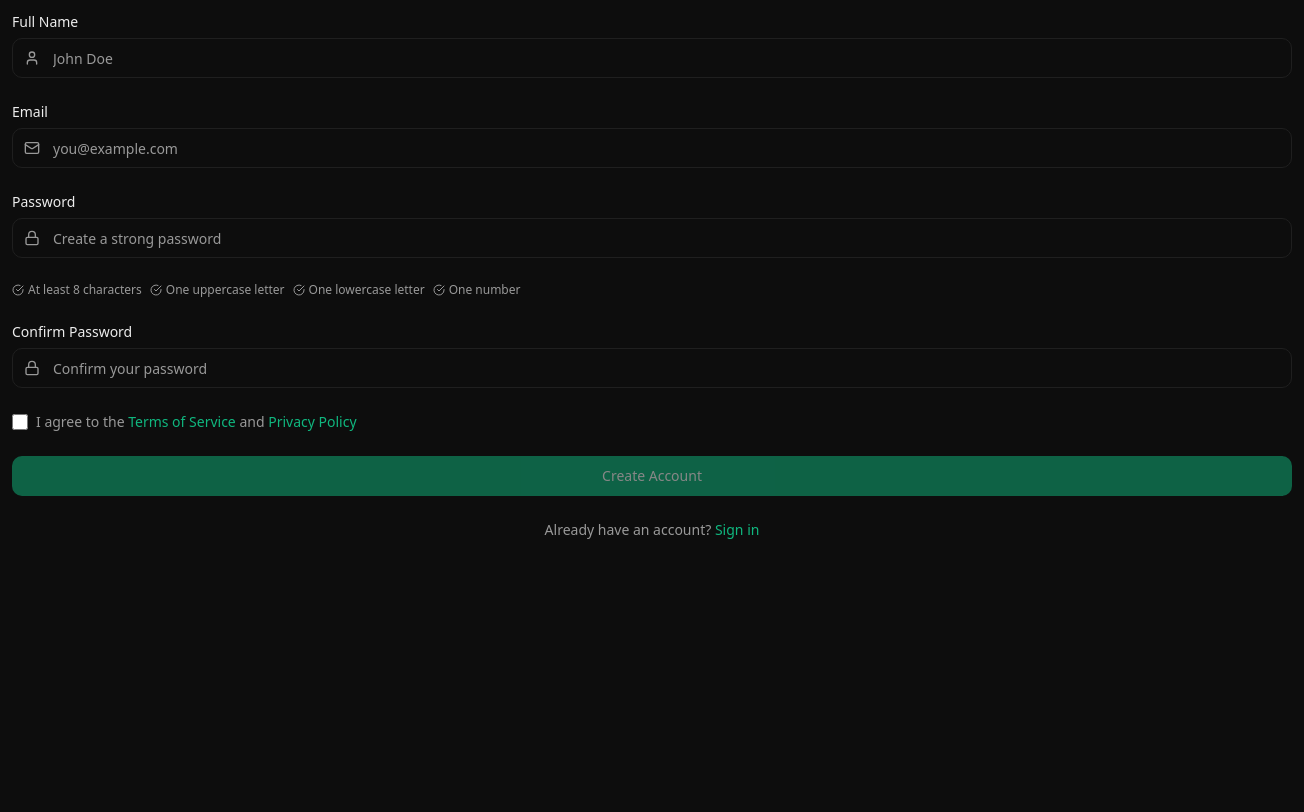
SignupForm › error handling › displays generic error for non-Error throws
In the field labelled "Full Name": x=652, y=58 [12,38,1292,78], type "John"
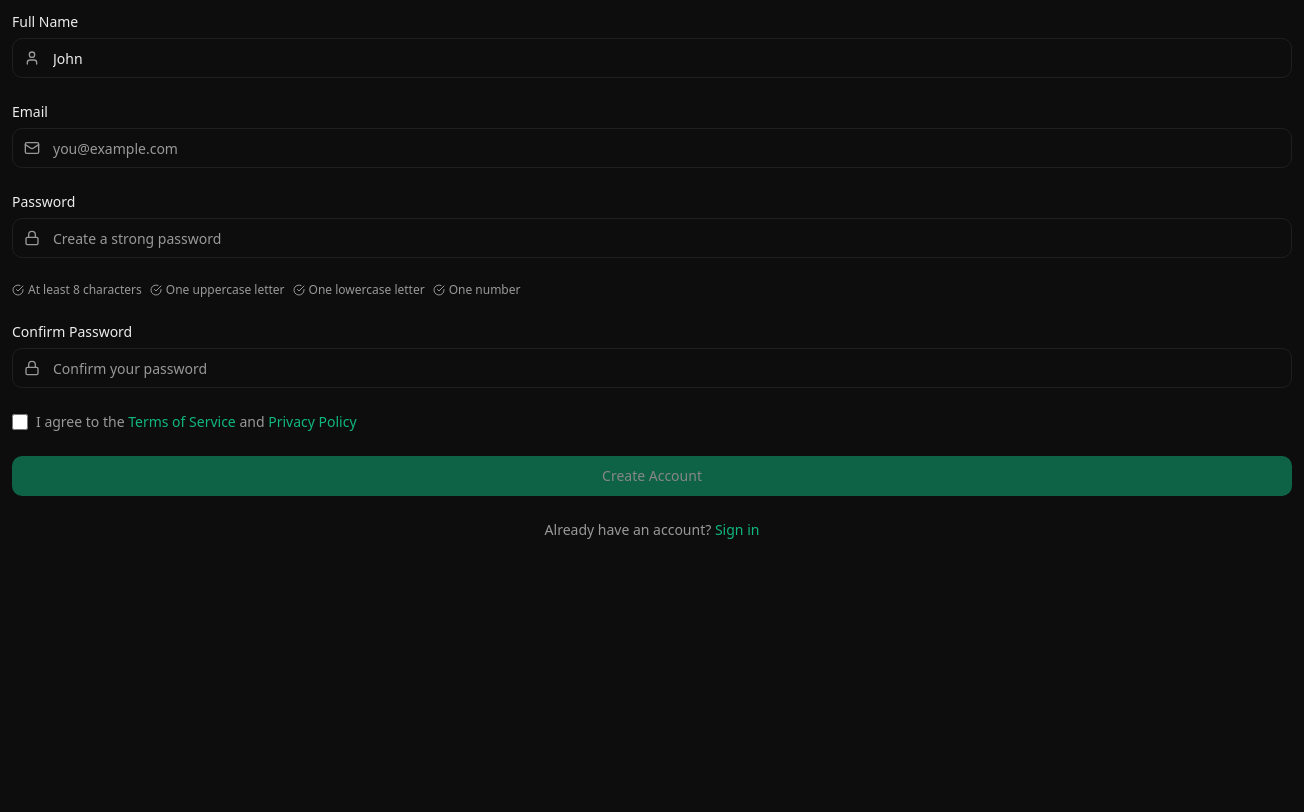
In the field labelled "Email": x=652, y=148 [12,128,1292,168], type "john@example.com"
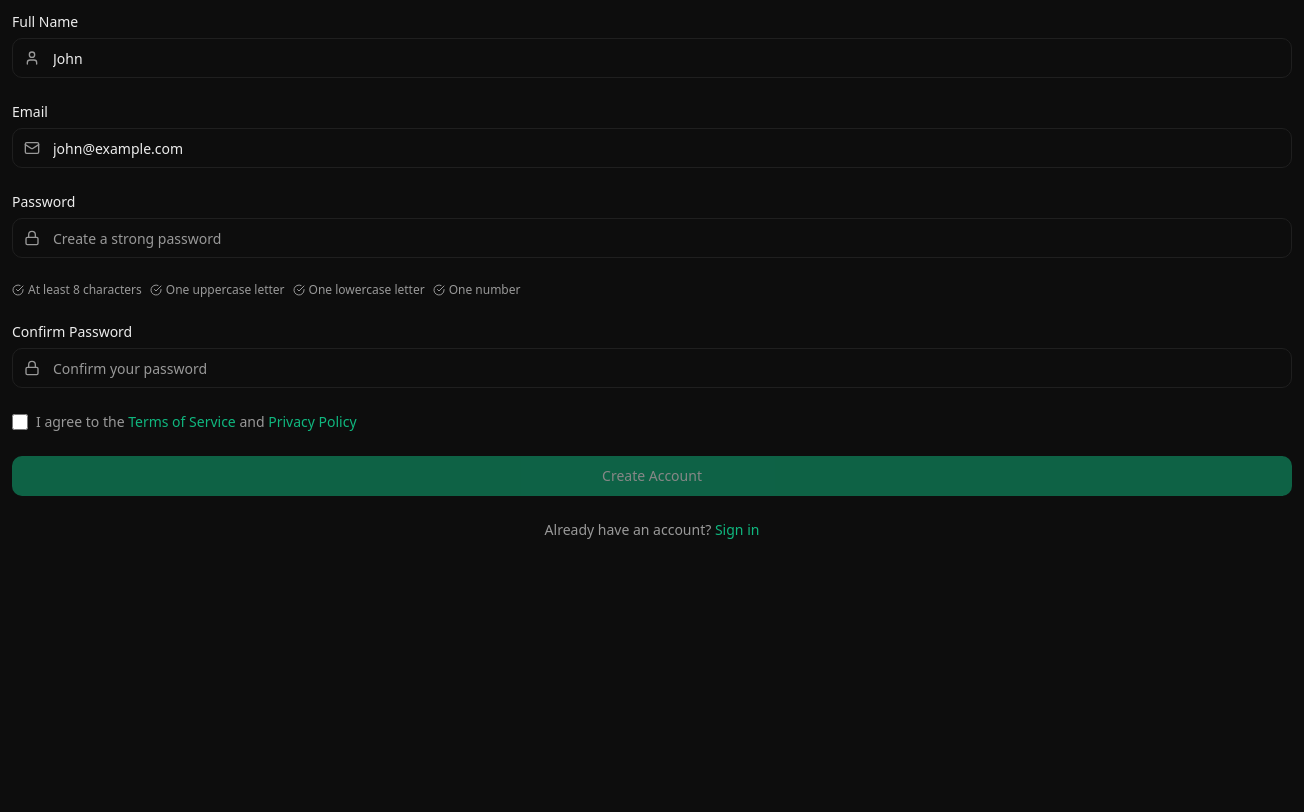
In the password field labelled "Password": x=652, y=238 [12,218,1292,258], type "Password1A"
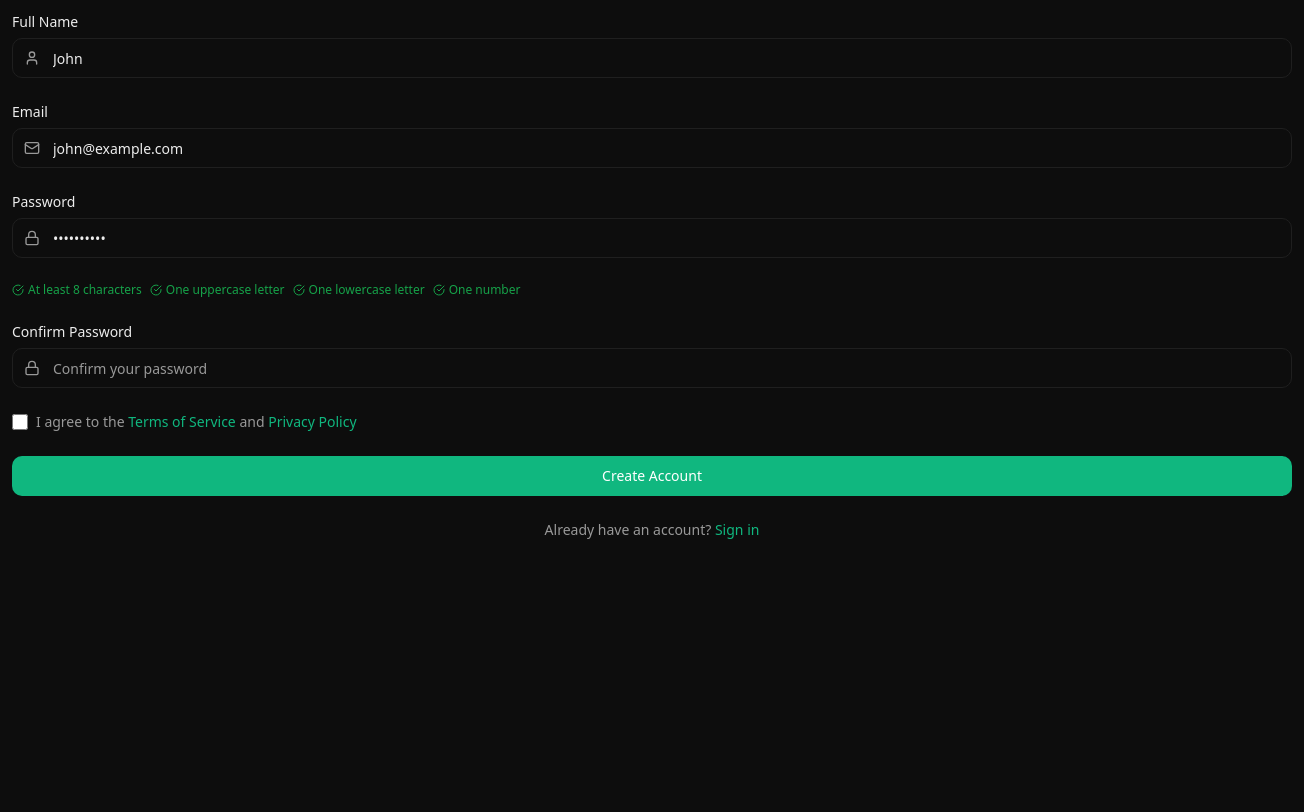
In the password field labelled "Confirm Password": x=652, y=368 [12,348,1292,388], type "Password1A"
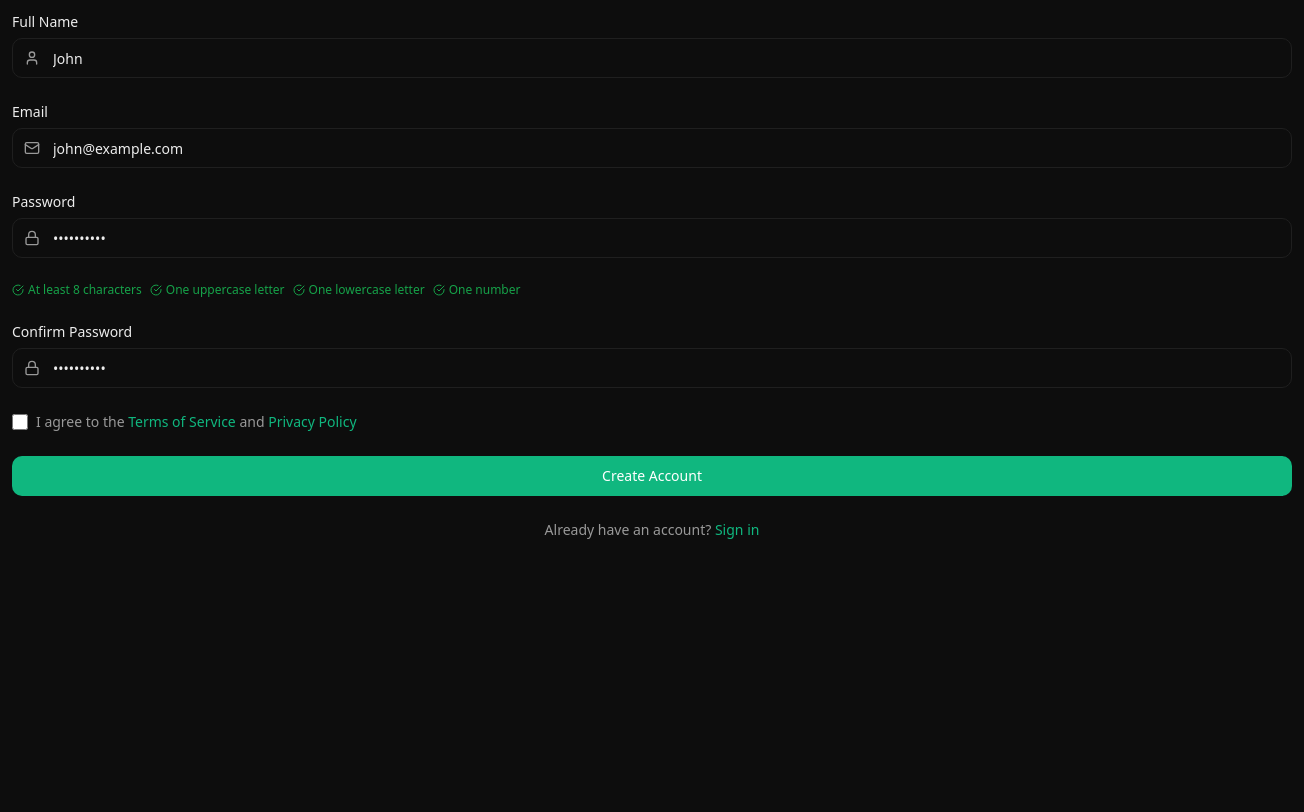
Click the checkbox: x=20, y=422 [12,414,28,430]
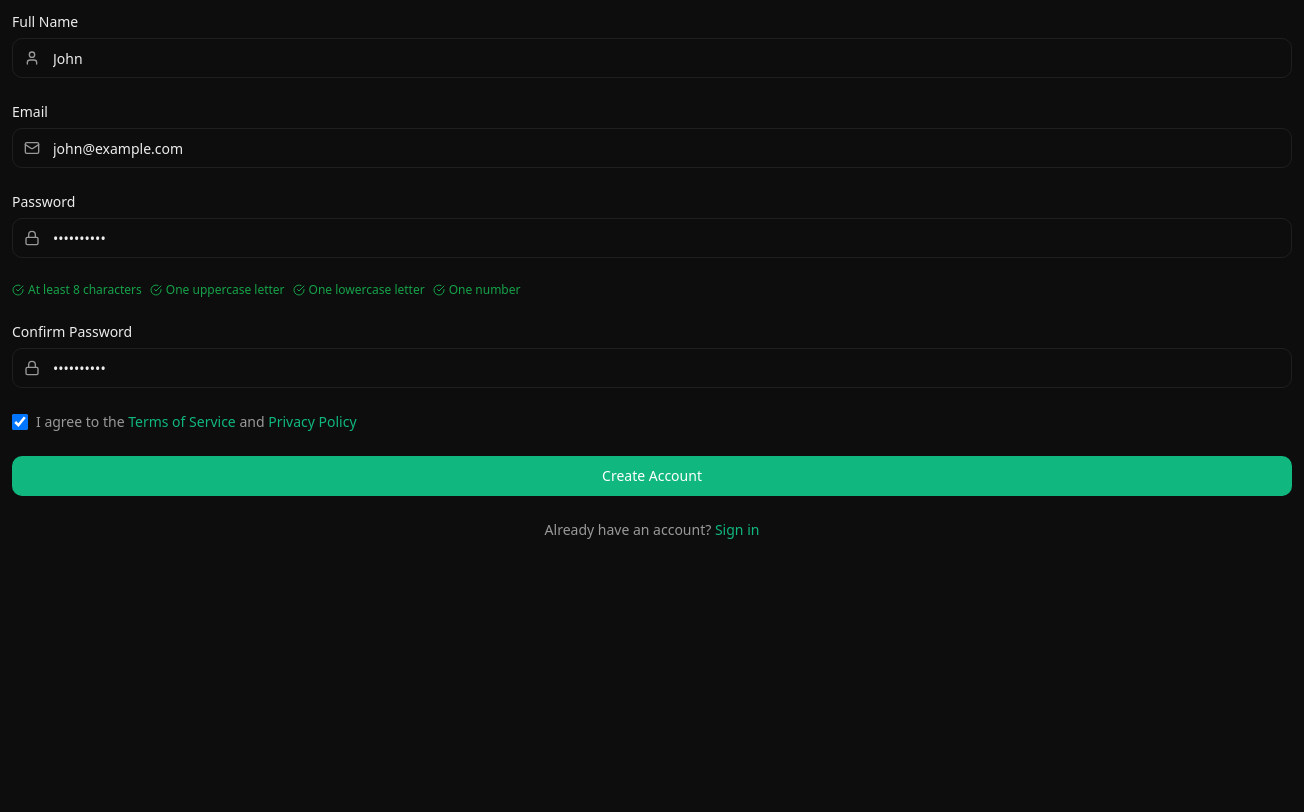
Click the button "Create Account": x=652, y=476 [12,456,1292,496]
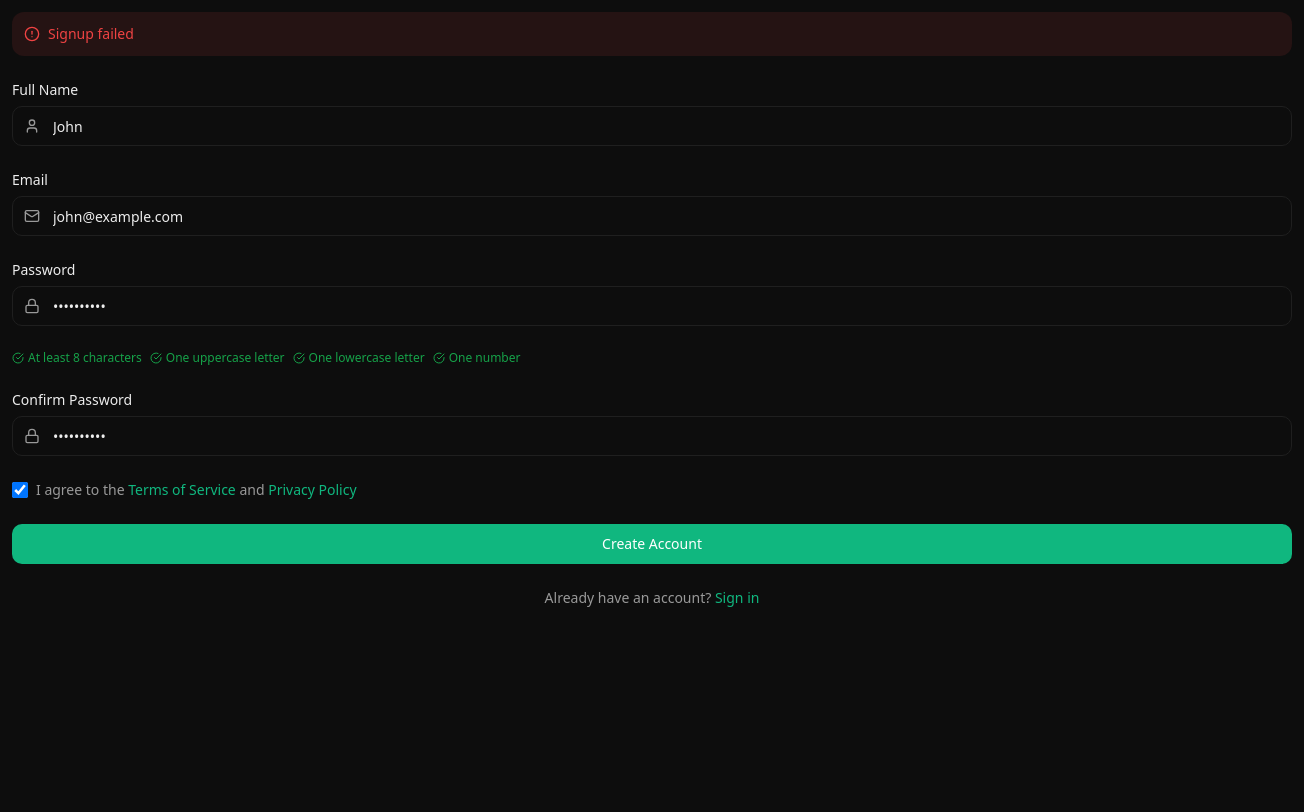
Result: the text "Signup failed" is shown at [12,12,1292,56]
